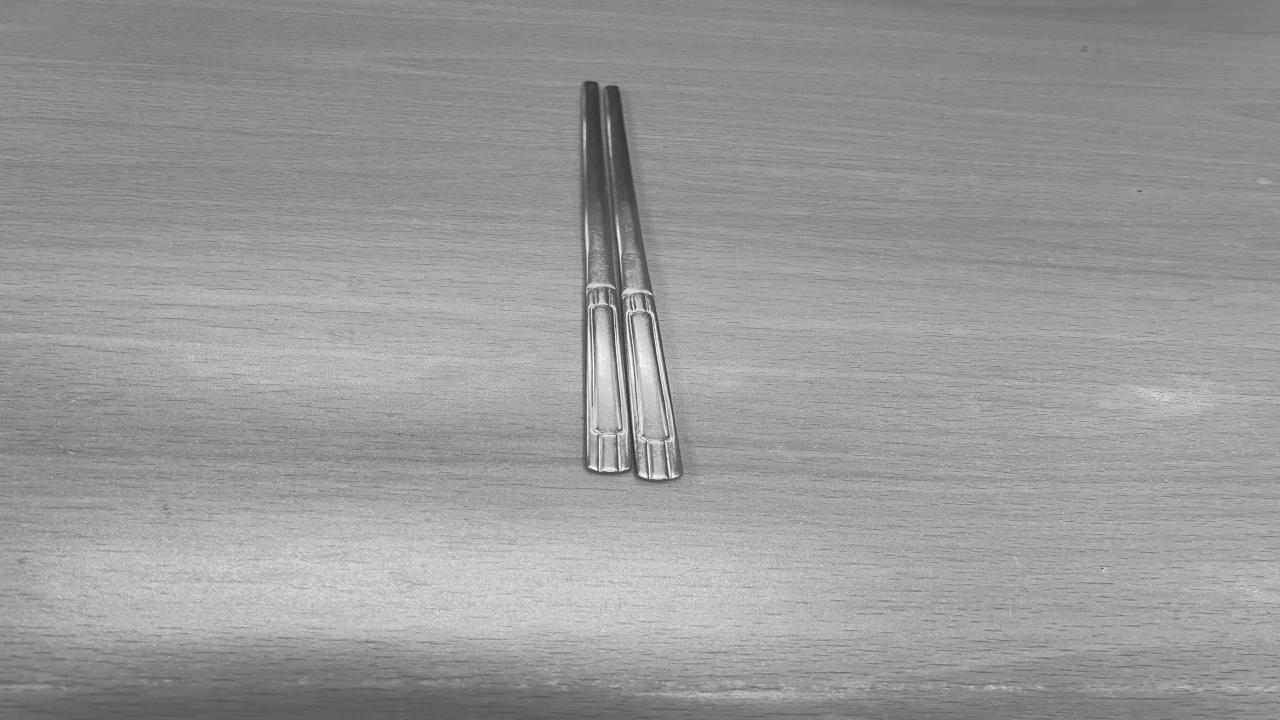chopstick: (580, 83, 683, 479)
